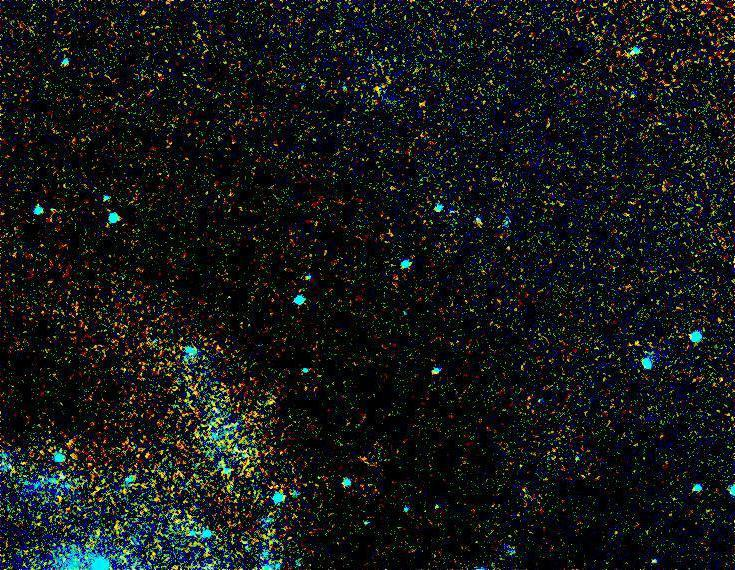star: (260, 382, 290, 412)
